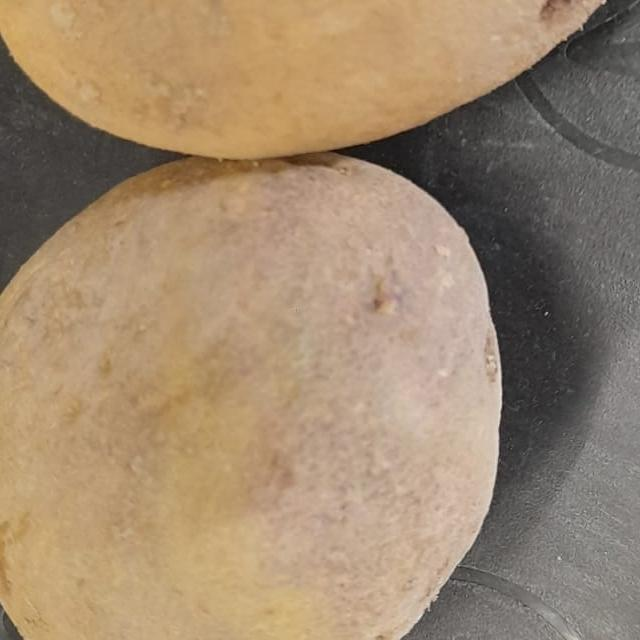potato: (0, 93, 546, 640), (0, 0, 640, 166)
